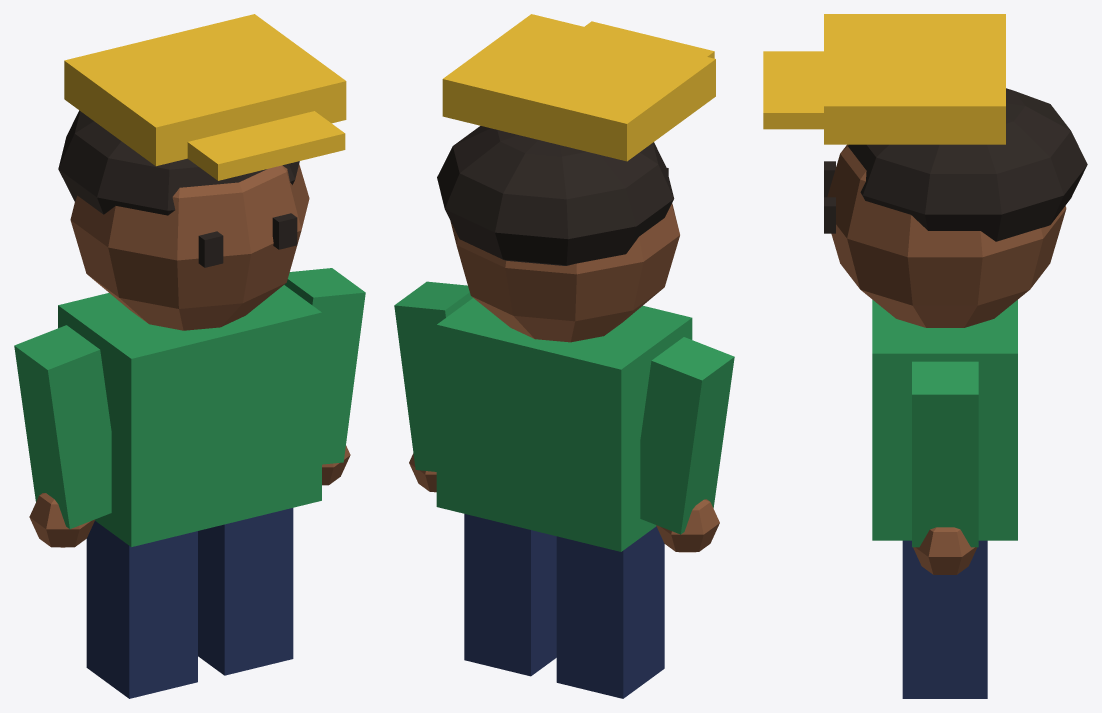
The model's file is customer_d.glb.
3 renders of one model, left to right at view 1: azimuth 30°, elevation 25°; view 2: azimuth 150°, elevation 25°; view 3: azimuth 270°, elevation 25°, orthographic. The views are drawn at different scales.
Parts seen in each view (by area): view 1: customer_d; view 2: customer_d; view 3: customer_d.
Boxes of the visible parts, x1,y1,x2,y2 form: customer_d: (14, 14, 365, 698); customer_d: (394, 14, 734, 698); customer_d: (763, 14, 1087, 698).
Bounding box in the file's own units: 0.5707 × 1.04 × 0.5082.
1 material, 1 textured.
